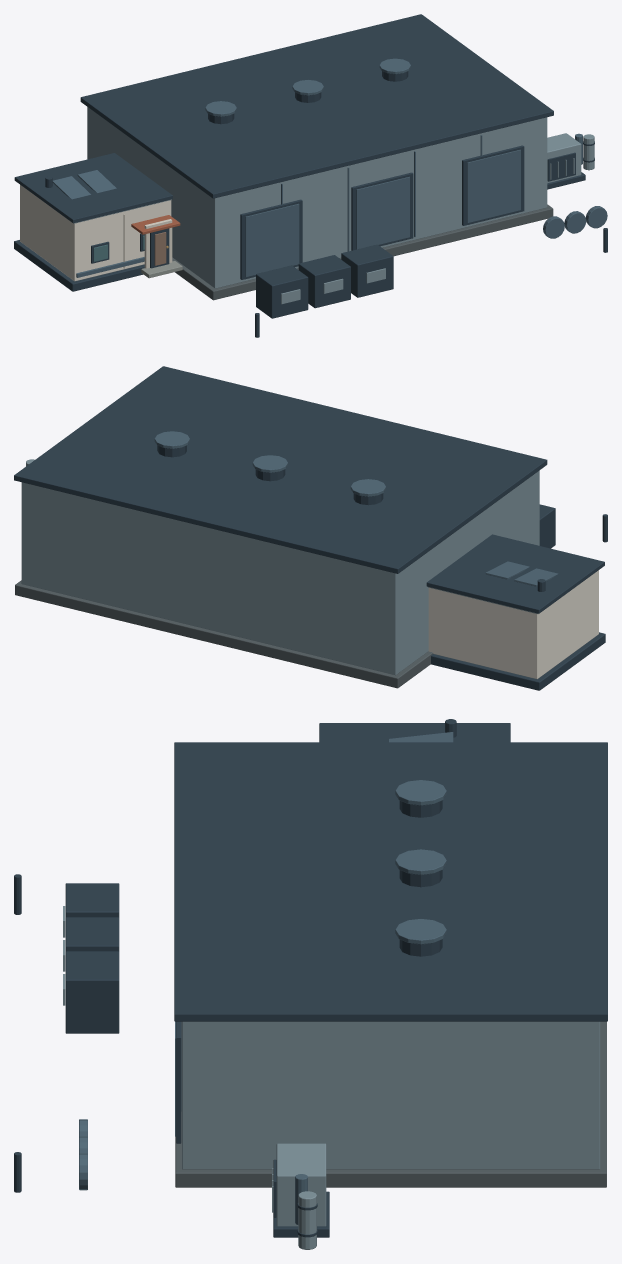
Rendered from workshop.glb.
3 renders of one model, top to bottom at view 1: azimuth 30°, elevation 25°; view 2: azimuth 150°, elevation 25°; view 3: azimuth 270°, elevation 25°, orthographic. The views are drawn at different scales.
Parts seen in each view (by area): view 1: building.workshop.t1; view 2: building.workshop.t1; view 3: building.workshop.t1.
Boxes of the visible parts, left/top/right/bottom form: building.workshop.t1: left=14, top=14, right=607, bottom=337; building.workshop.t1: left=14, top=366, right=607, bottom=690; building.workshop.t1: left=14, top=719, right=607, bottom=1249.
Bounding box in the file's own units: 1.8 × 0.391 × 1.09.
